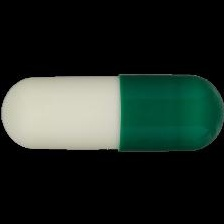55289-354: (0, 0, 224, 224)
